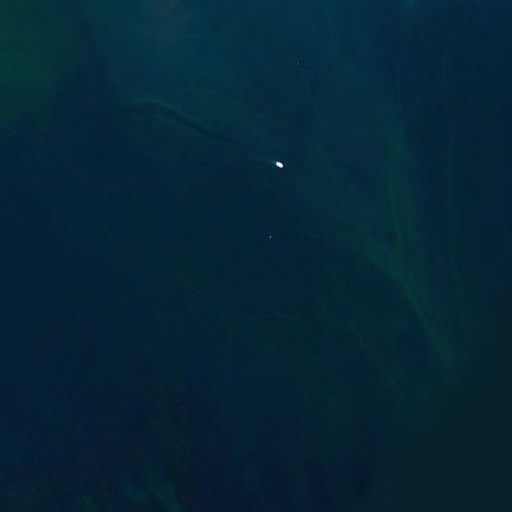ship: (274, 158, 285, 171)
